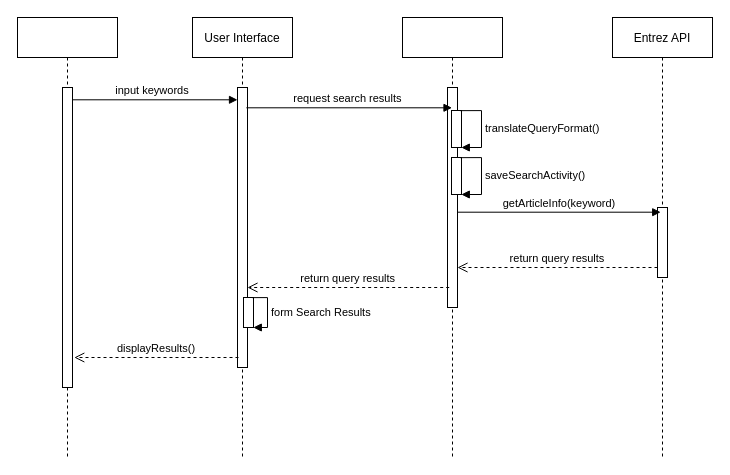
Image size: 730x475. Some labels were removed from this diagram. The box of each missing label's shape, as (x1, y1, x2, y2) in pixels:
Search Feature: (402, 16, 502, 458)
User: (16, 16, 118, 458)
